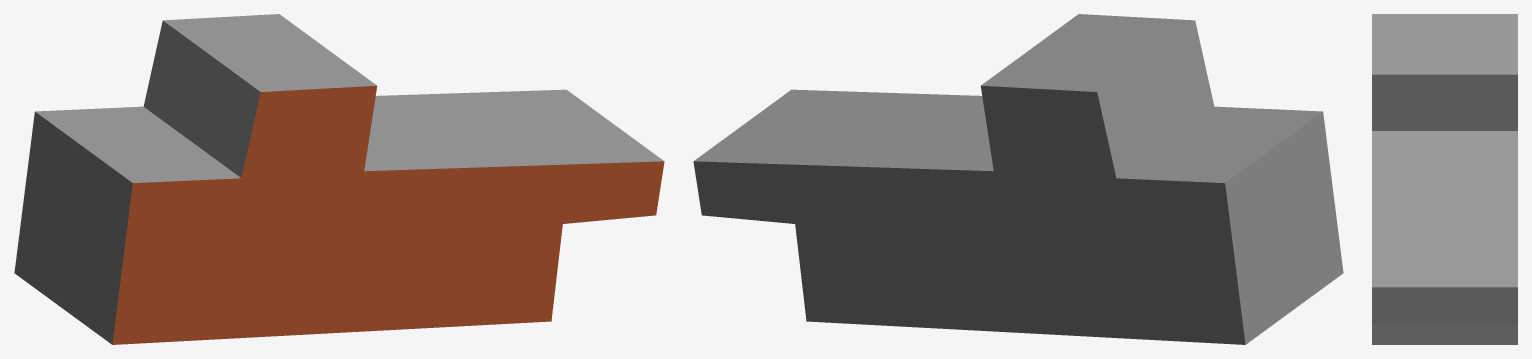
File: construction_4455_assumed_A_Casa_h6m.obj
3 views of the same model, side by side, from view 1: azimuth 30°, elevation 25°; view 2: azimuth 150°, elevation 25°; view 3: azimuth 270°, elevation 25° (orthographic). The views are drawn at different scales.
Visible parts, largest first — view 1: construction_4455_assumed_A_Casa; view 2: construction_4455_assumed_A_Casa; view 3: construction_4455_assumed_A_Casa.
Boxes of the visible parts, x1,y1,x2,y2 form: construction_4455_assumed_A_Casa: [14, 14, 664, 344]; construction_4455_assumed_A_Casa: [693, 14, 1343, 344]; construction_4455_assumed_A_Casa: [1372, 14, 1517, 344].
Size of the model in its own units: 19.52 by 10.15 by 6.
